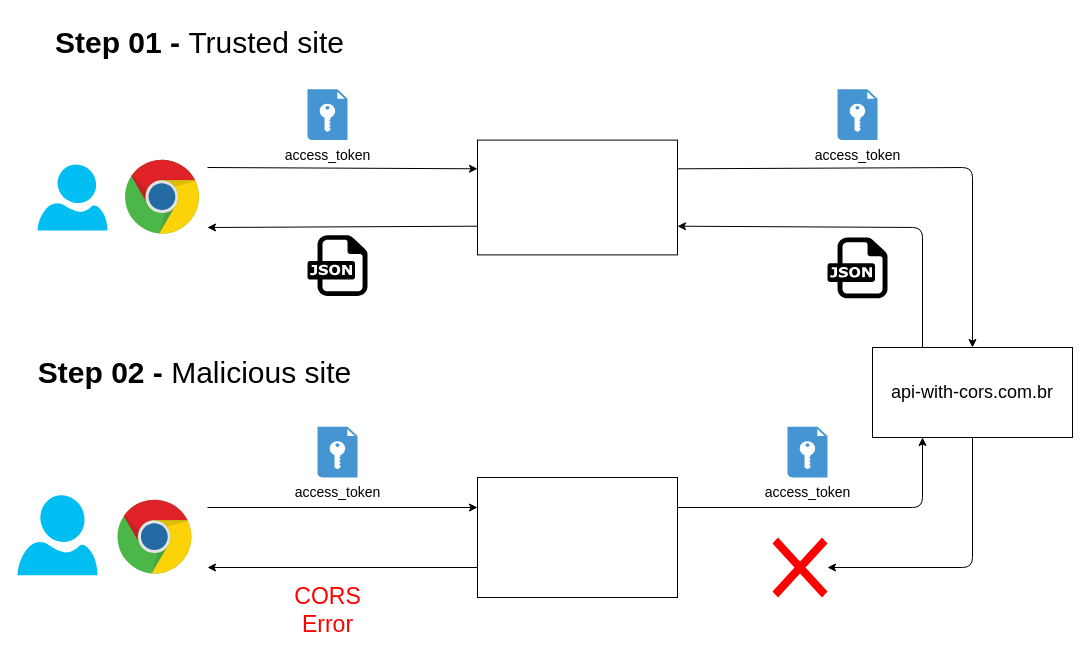
The diagram is 1090 pixels wide and 662 high, and some of its shapes have lost their labels. Here are the shapes that lost their labels. From the top down, the centre of each, then its label:
At (x=577, y=197): "site-trusted.com".
At (x=577, y=537): "site-malicious.com".
